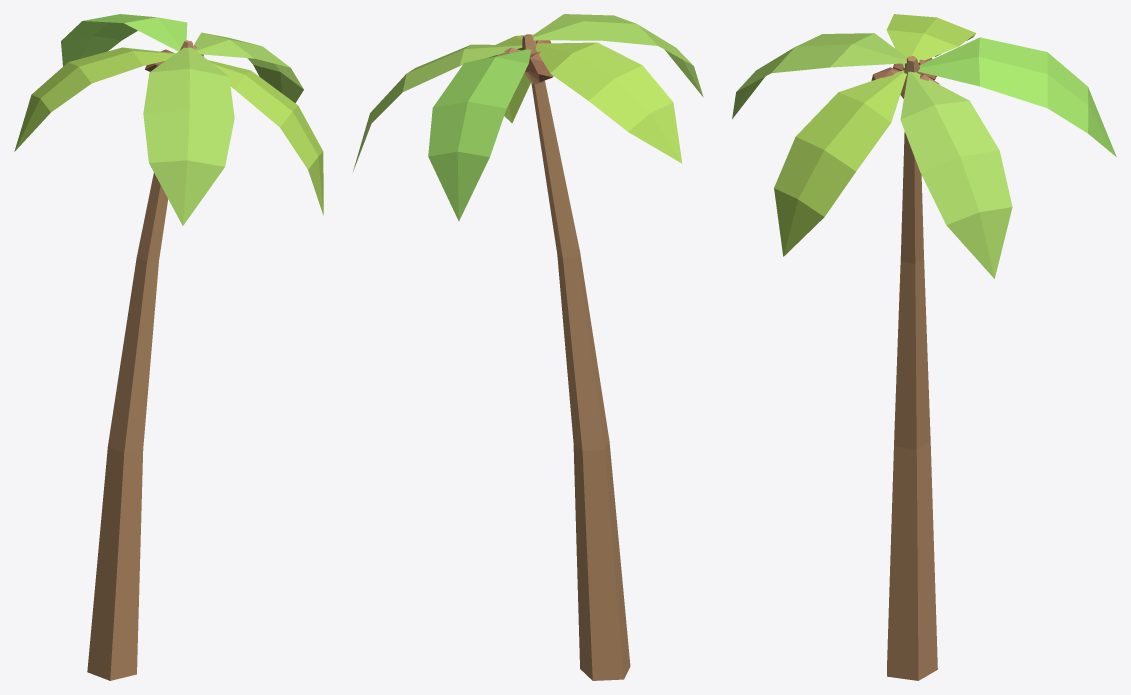
Rendered from Palm_Tree_Coconut_OneSided_s_02_LOD.fbx.
3 views of the same model, side by side, from view 1: azimuth 30°, elevation 25°; view 2: azimuth 150°, elevation 25°; view 3: azimuth 270°, elevation 25° (orthographic). The views are drawn at different scales.
Parts seen in each view (by area): view 1: Palm_Tree_Coconut_OneSided_s_02_LOD0; view 2: Palm_Tree_Coconut_OneSided_s_02_LOD0; view 3: Palm_Tree_Coconut_OneSided_s_02_LOD0.
Part boxes in pixels (bbox=[...]): Palm_Tree_Coconut_OneSided_s_02_LOD0: bbox=[14, 14, 323, 680]; Palm_Tree_Coconut_OneSided_s_02_LOD0: bbox=[353, 14, 703, 680]; Palm_Tree_Coconut_OneSided_s_02_LOD0: bbox=[732, 14, 1116, 680].
Size of what is drawn, in the model's own units: 243 by 478 by 255.
